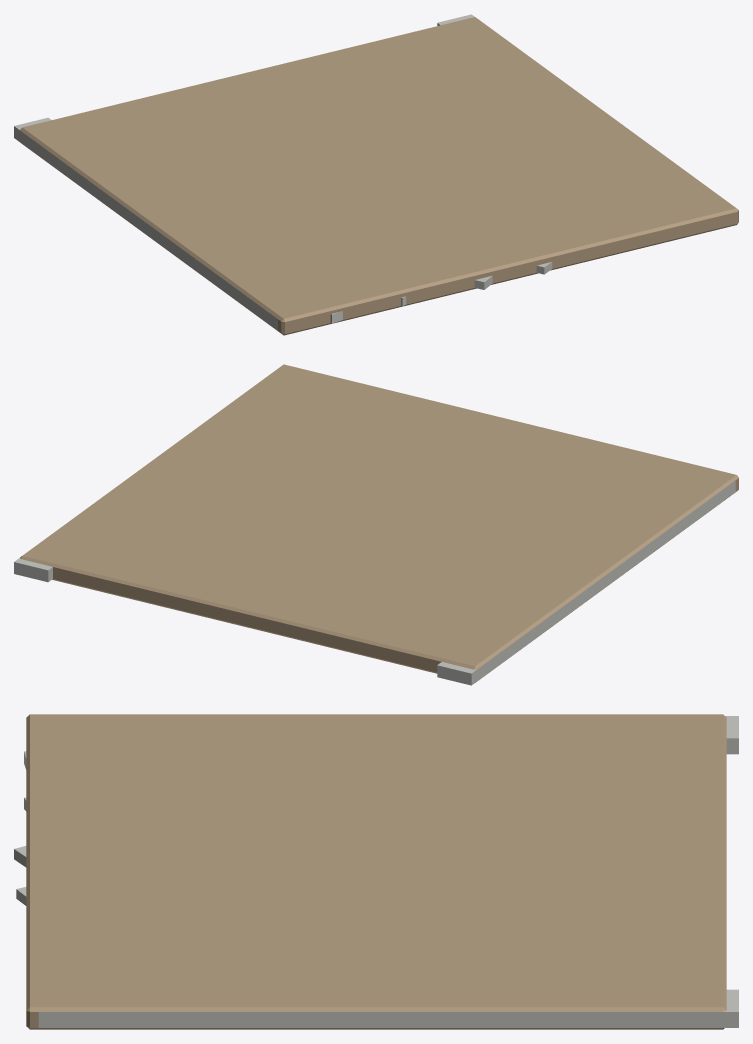
The model's file is town_cobble_road_tile.glb.
3 renders of one model, top to bottom at view 1: azimuth 30°, elevation 25°; view 2: azimuth 150°, elevation 25°; view 3: azimuth 270°, elevation 25°, orthographic. The views are drawn at different scales.
Visible parts, largest first — view 1: world; view 2: world; view 3: world.
Boxes of the visible parts, x1,y1,x2,y2 form: world: [14, 14, 738, 335]; world: [14, 364, 738, 685]; world: [14, 714, 738, 1029].
Bounding box in the file's own units: 1.93 × 0.0677 × 2.
